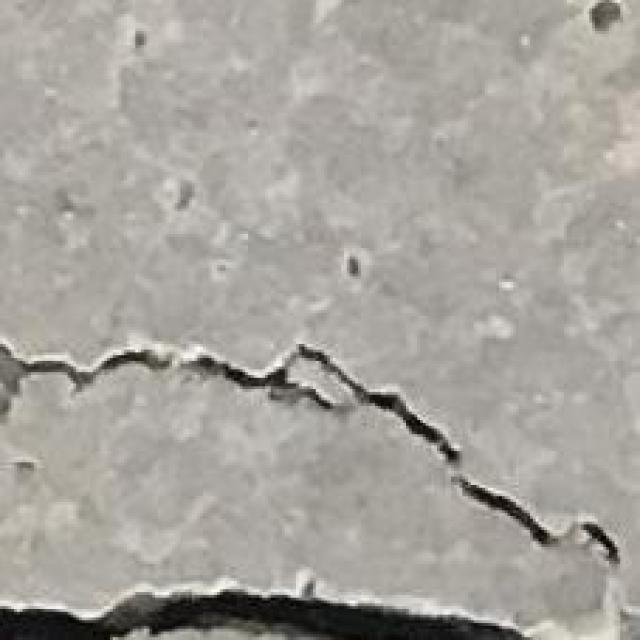branched cracks: (0, 578, 533, 639)
